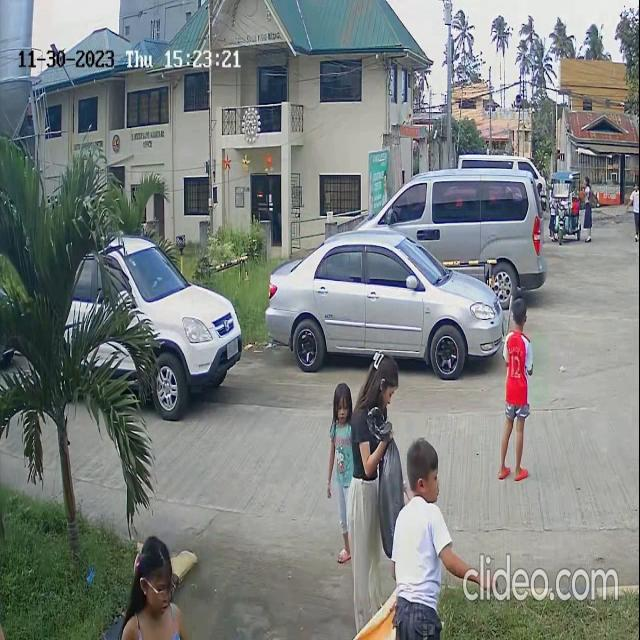person: (399, 436, 439, 576), (128, 534, 179, 640), (356, 346, 394, 458), (503, 298, 531, 399), (328, 386, 353, 488), (581, 174, 596, 238), (629, 179, 640, 241)
